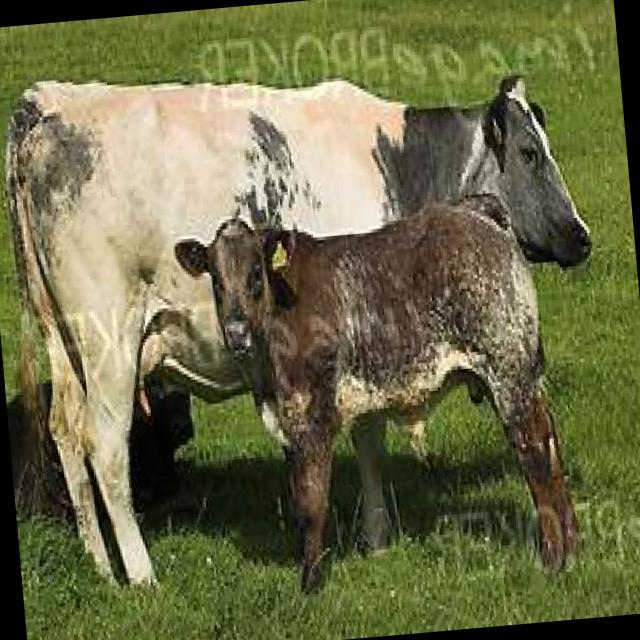cow: (0, 30, 620, 598), (172, 181, 586, 606)
